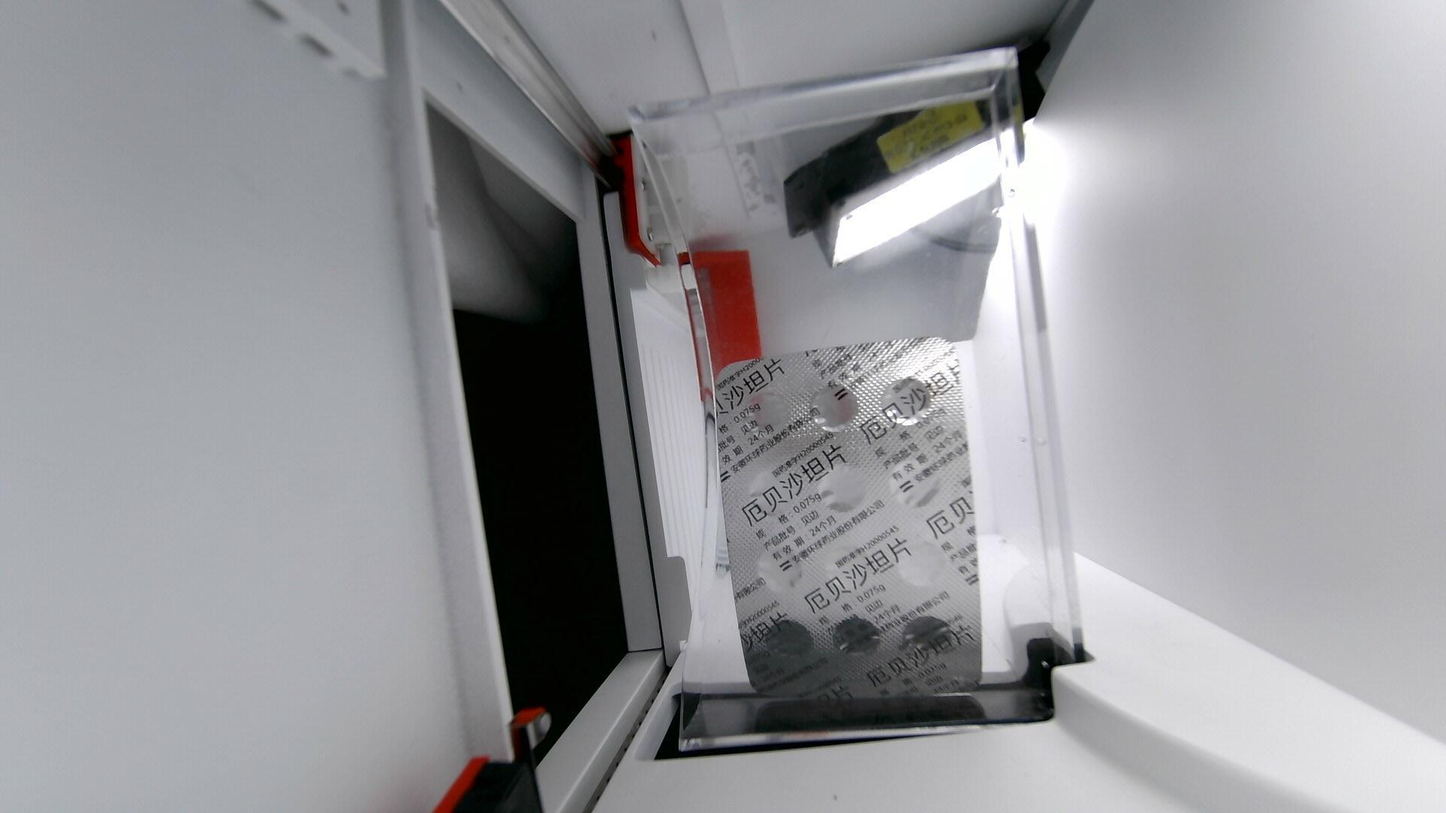Pill Back: (889, 529, 960, 592), (901, 612, 969, 676), (886, 456, 955, 513), (734, 385, 795, 448), (829, 613, 898, 666), (760, 610, 823, 668), (878, 372, 936, 428), (816, 461, 874, 517), (740, 466, 798, 520), (806, 381, 859, 435), (828, 541, 882, 592), (753, 540, 804, 592)
